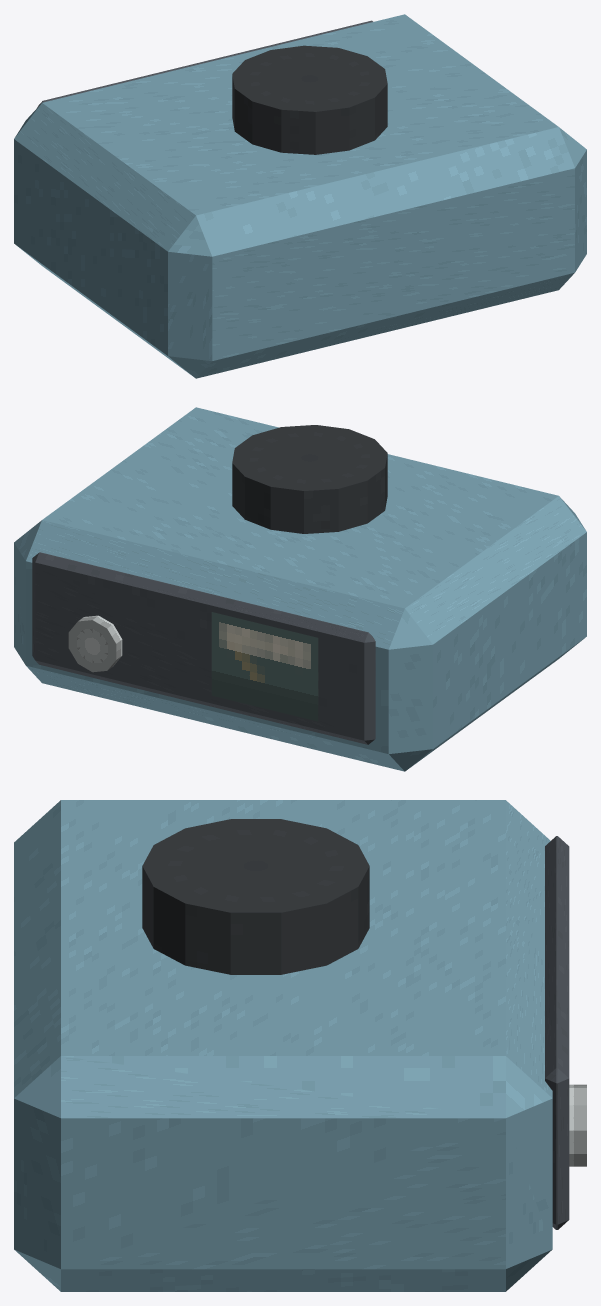
Rendered from vortex.glb.
3 views of the same model, one above another, from view 1: azimuth 30°, elevation 25°; view 2: azimuth 150°, elevation 25°; view 3: azimuth 270°, elevation 25° (orthographic). The views are drawn at different scales.
Visible parts, largest first — view 1: block_instrument housing, block_rubber tube cup, block_instrument control panel; view 2: block_instrument housing, block_instrument control panel, block_rubber tube cup, block_instrument readout, block_control knob; view 3: block_instrument housing, block_rubber tube cup, block_instrument control panel, block_control knob.
Part boxes in pixels (x1,y1,x2,y2): block_instrument housing: (14, 14, 586, 378); block_rubber tube cup: (232, 45, 387, 154); block_instrument control panel: (37, 20, 373, 107); block_instrument housing: (14, 407, 586, 771); block_instrument control panel: (32, 552, 375, 744); block_rubber tube cup: (232, 425, 387, 533); block_instrument readout: (211, 612, 318, 721); block_control knob: (68, 615, 122, 672); block_instrument housing: (14, 800, 552, 1291); block_rubber tube cup: (142, 819, 369, 974); block_instrument control panel: (545, 836, 569, 1229); block_control knob: (569, 1084, 586, 1166).
Bounding box in the file's own units: 0.1726 × 0.0812 × 0.1415.
1 material, 1 textured.
